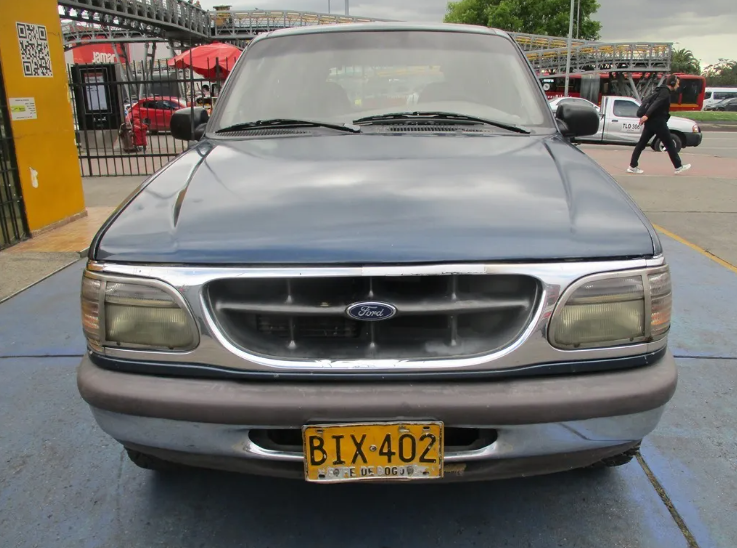placa: (303, 426, 443, 480)
